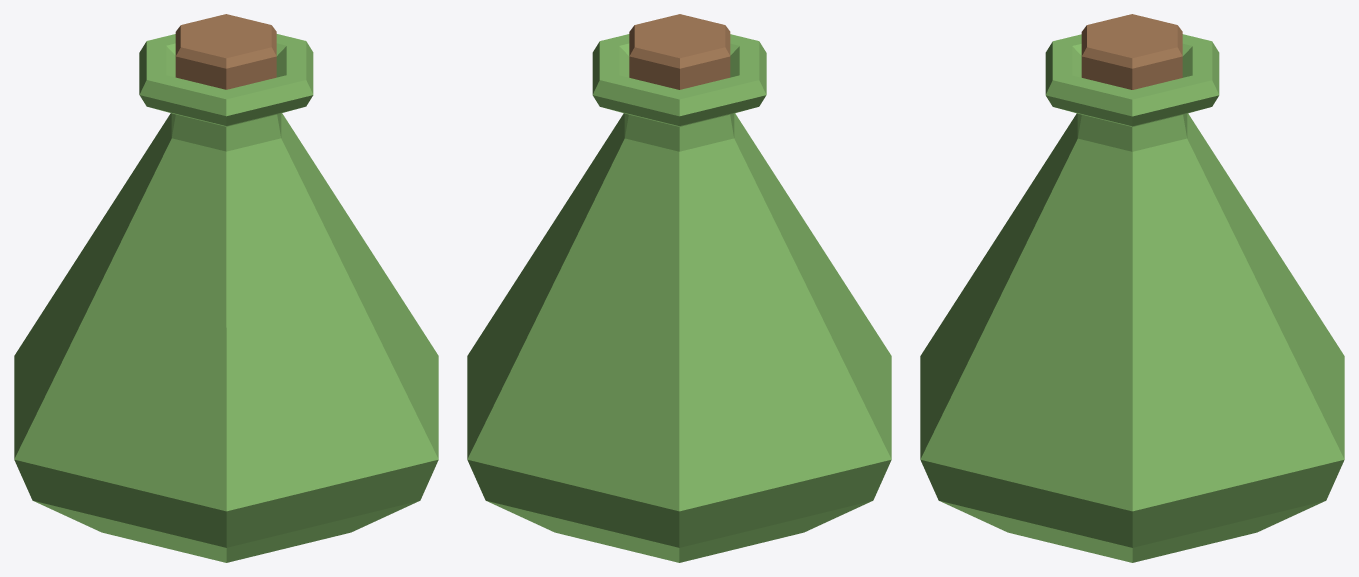
Rendered from Green_Potion_6.fbx.
3 views of the same model, side by side, from view 1: azimuth 30°, elevation 25°; view 2: azimuth 150°, elevation 25°; view 3: azimuth 270°, elevation 25° (orthographic).
Parts seen in each view (by area): view 1: Green_Potion_6; view 2: Green_Potion_6; view 3: Green_Potion_6.
Part boxes in pixels (x1=…): Green_Potion_6: x1=14, y1=14, x2=438, y2=562; Green_Potion_6: x1=467, y1=14, x2=891, y2=562; Green_Potion_6: x1=920, y1=14, x2=1344, y2=562.
Size of the model in its own units: 20.22 by 21.21 by 17.51.
